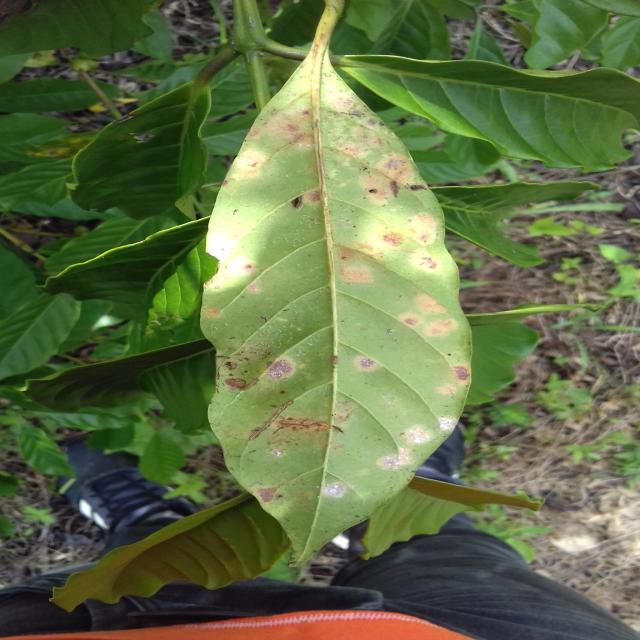Enfermedad-Roya: (203, 0, 474, 569)
